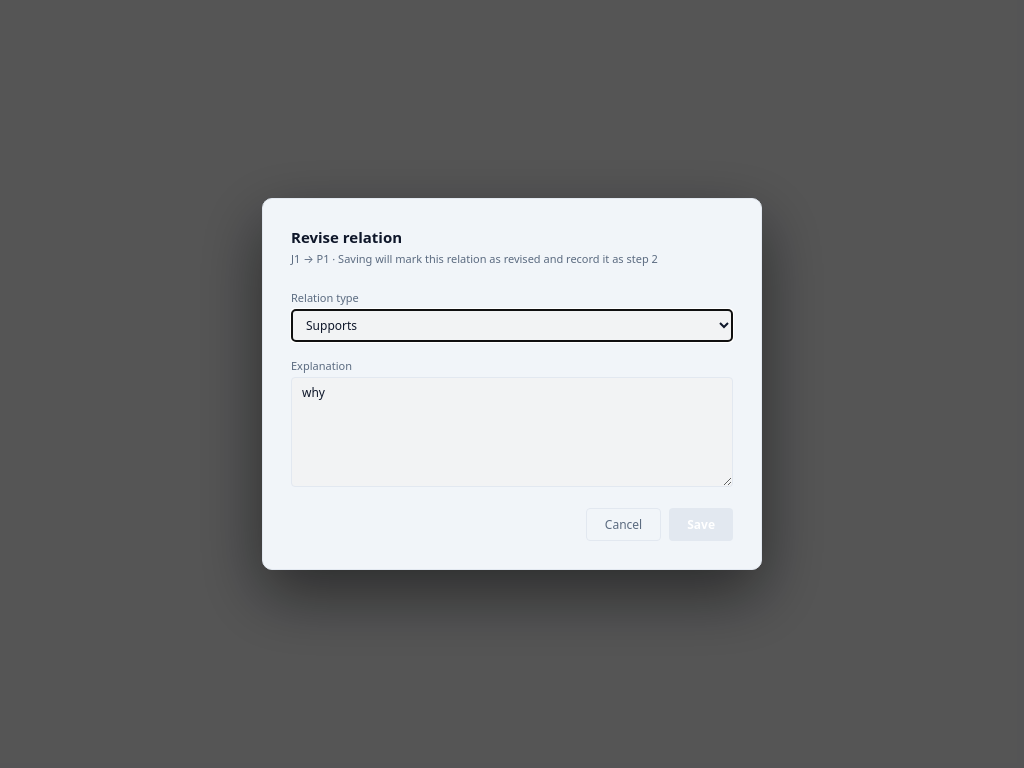
revising a relation › offers Save only once a field has changed
The width and height of the screenshot is (1024, 768).
Expected: the button "Save" is disabled, [669,508,733,541]
Replace the text in the text box with "why not". click: (512, 432)
box: [291,377,733,487]
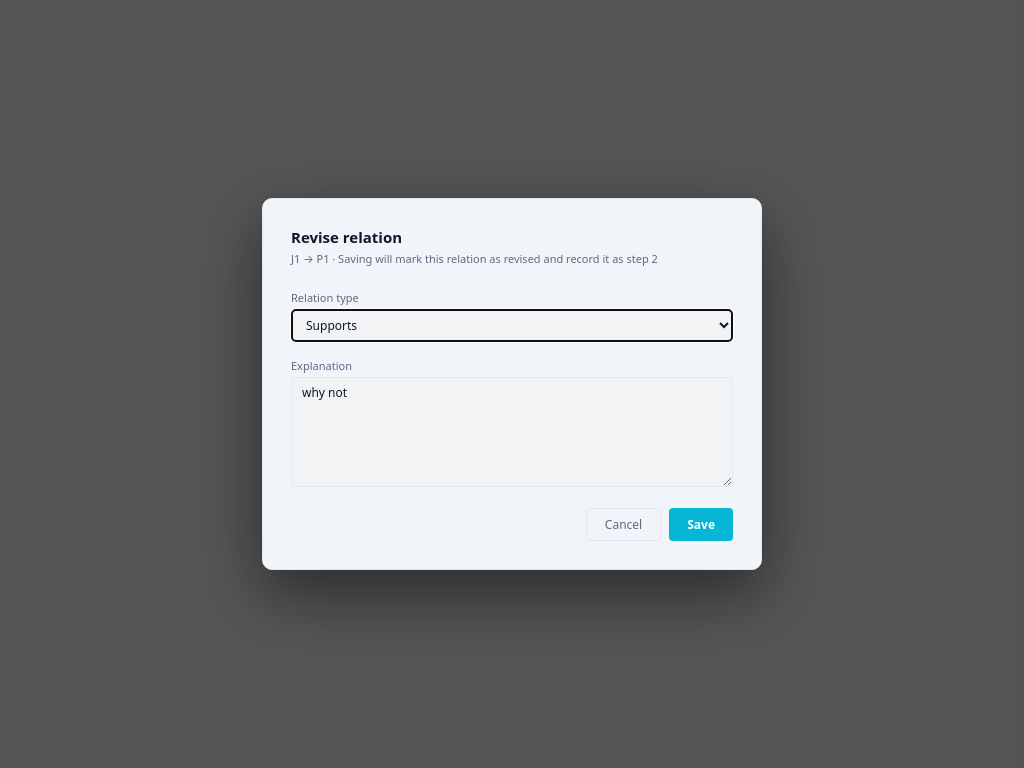
Result: the button "Save" is enabled at [669,508,733,541]
Replace the text in the text box with "why". click: (512, 432)
box: [291,377,733,487]
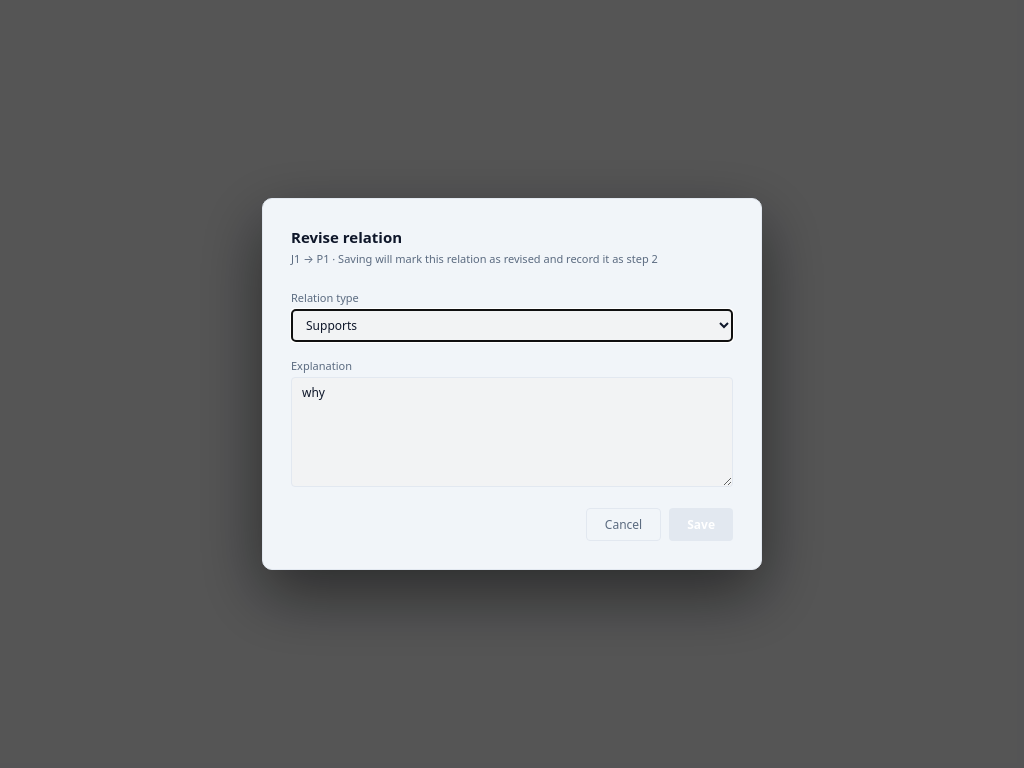
Result: the button "Save" is disabled at [669,508,733,541]
